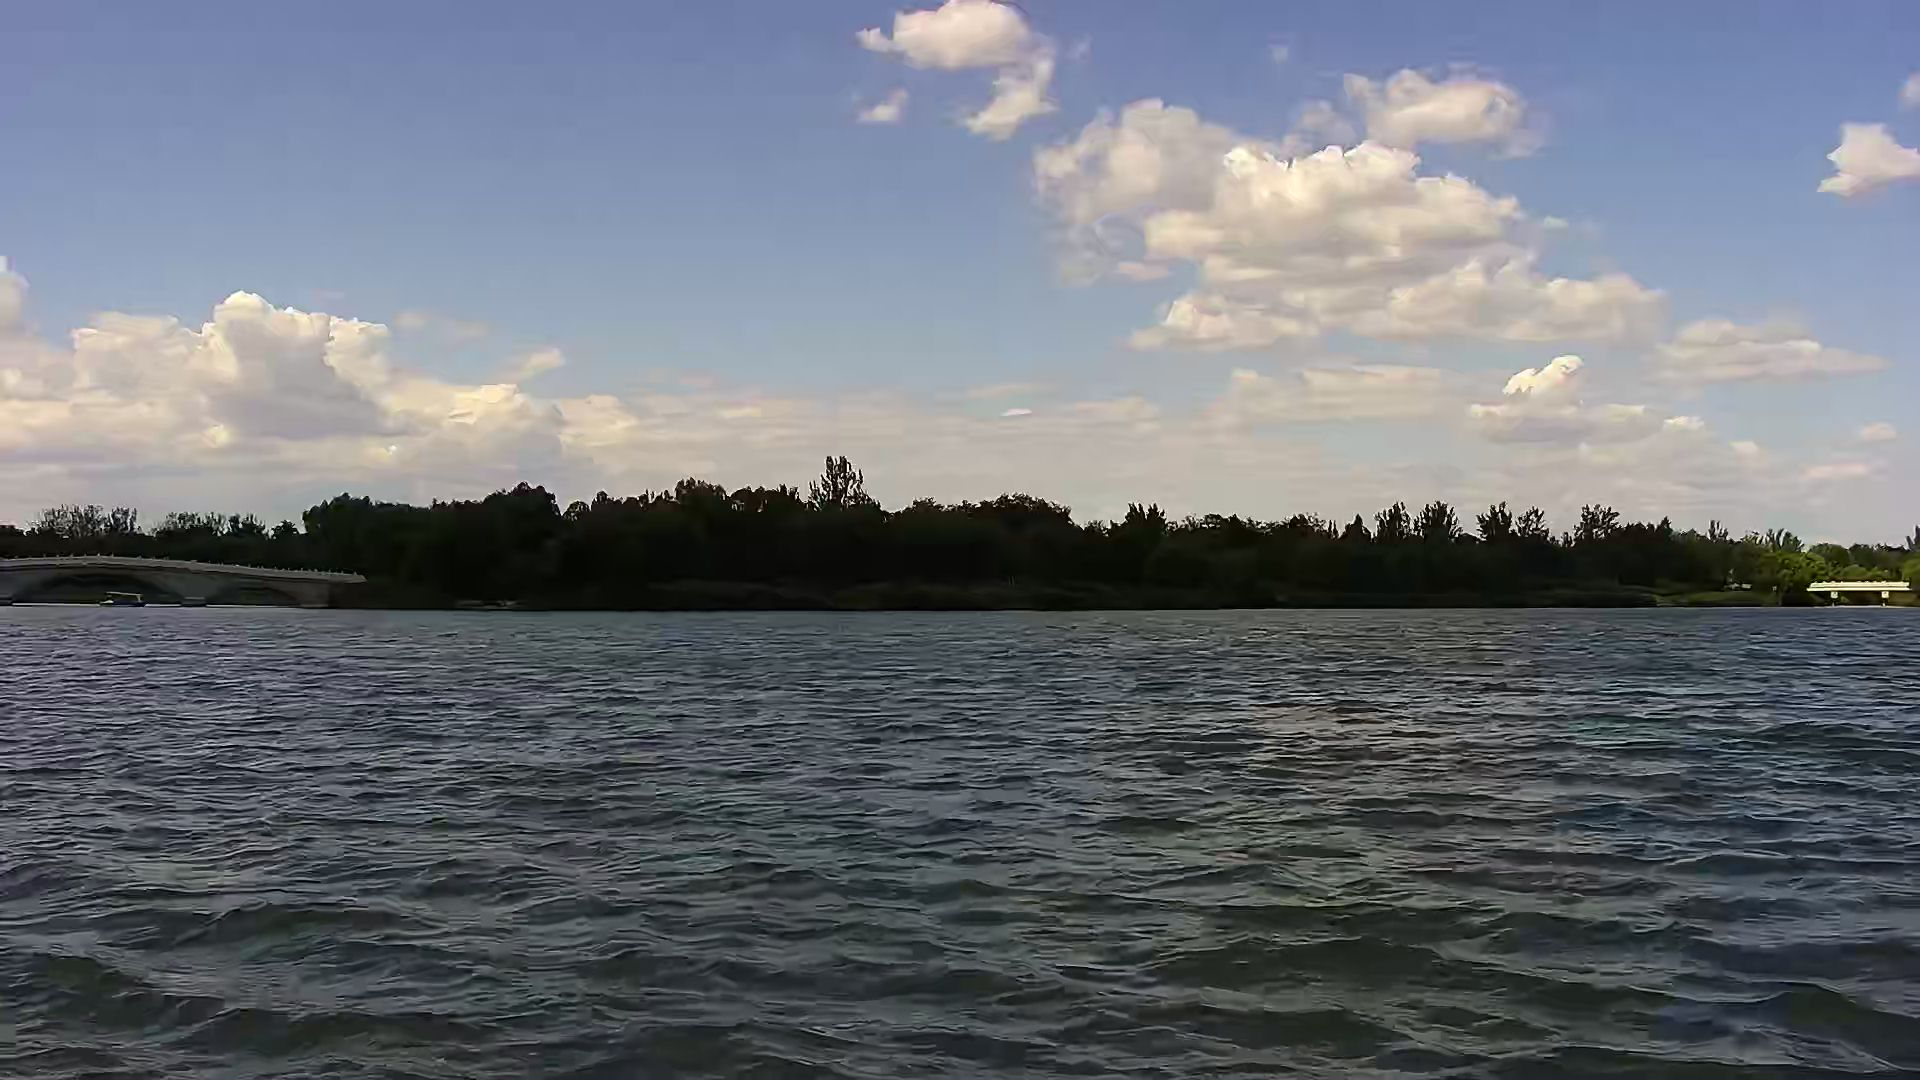boat: (102, 588, 149, 612)
bridge: (1, 556, 363, 618), (1805, 579, 1916, 611)
